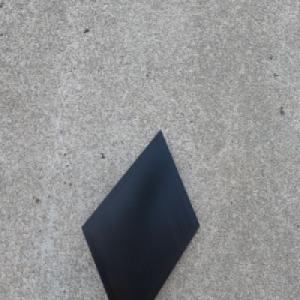PlasticPart: (82, 126, 203, 300)
